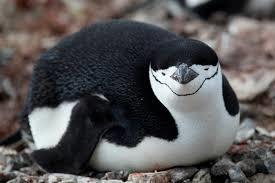chinstrap: (21, 13, 244, 177)
